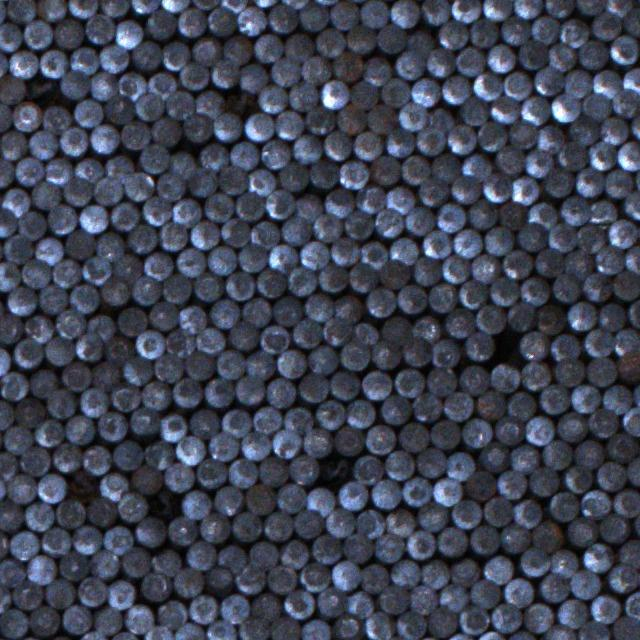tool: (531, 518, 567, 553), (198, 511, 231, 544), (604, 432, 637, 464), (264, 376, 296, 409), (243, 483, 277, 514), (334, 103, 368, 134), (458, 604, 490, 636), (475, 388, 507, 420), (535, 302, 567, 334), (564, 246, 596, 278), (516, 220, 548, 252), (208, 56, 240, 88), (44, 577, 76, 609), (140, 570, 172, 602), (150, 546, 182, 578), (118, 491, 150, 523), (144, 439, 176, 471), (65, 413, 97, 445), (79, 386, 111, 418), (324, 507, 357, 538), (512, 497, 545, 528), (306, 344, 339, 375), (223, 270, 256, 301), (255, 266, 286, 299), (461, 150, 494, 181), (134, 516, 167, 547), (45, 388, 78, 419), (111, 379, 142, 412), (569, 568, 603, 598), (259, 139, 293, 169), (566, 115, 598, 146), (173, 566, 204, 598), (231, 511, 263, 542), (483, 495, 514, 527), (580, 489, 612, 520), (431, 417, 462, 449), (524, 414, 556, 445), (538, 383, 570, 414), (360, 368, 392, 399), (554, 356, 586, 387), (291, 318, 322, 350), (488, 275, 520, 306), (299, 240, 330, 272), (467, 198, 499, 229), (560, 193, 591, 225), (476, 119, 508, 150), (252, 31, 283, 63), (145, 8, 176, 40), (235, 5, 267, 36), (30, 604, 61, 636), (122, 603, 154, 634), (156, 598, 188, 629), (102, 523, 134, 554), (112, 439, 144, 470), (142, 379, 173, 411), (89, 122, 121, 153), (121, 118, 152, 150), (257, 456, 290, 486), (398, 422, 431, 452), (380, 394, 413, 424), (569, 384, 602, 414), (90, 604, 123, 634), (3, 422, 33, 455), (116, 306, 149, 336), (266, 565, 300, 594), (518, 547, 552, 576), (232, 375, 266, 404), (558, 598, 589, 629), (284, 588, 315, 619), (539, 571, 570, 602), (185, 538, 216, 569), (418, 501, 449, 532), (465, 470, 496, 501), (497, 469, 528, 500), (240, 430, 271, 461), (302, 428, 333, 459), (366, 423, 397, 454), (443, 391, 474, 422), (171, 377, 202, 408), (209, 298, 240, 329), (162, 272, 193, 303), (250, 219, 281, 250), (228, 139, 259, 170), (446, 123, 477, 154), (489, 94, 520, 125), (179, 60, 210, 91), (270, 57, 301, 88), (121, 546, 152, 577), (9, 530, 40, 561), (24, 501, 55, 532), (85, 497, 116, 528), (6, 473, 37, 504), (52, 442, 83, 473), (61, 360, 92, 391), (55, 308, 86, 339), (63, 175, 94, 206), (124, 170, 155, 201), (586, 356, 618, 386), (559, 16, 589, 48), (396, 608, 426, 640), (426, 606, 458, 636), (252, 591, 284, 621), (472, 577, 502, 609), (504, 576, 534, 608), (276, 538, 308, 568), (470, 523, 500, 555), (567, 516, 599, 546), (166, 514, 198, 544), (180, 489, 212, 519), (163, 462, 195, 492), (416, 446, 446, 478), (175, 435, 207, 465), (493, 415, 525, 445), (558, 411, 590, 441), (297, 372, 329, 402), (329, 370, 361, 400), (304, 292, 336, 322), (316, 262, 348, 292), (144, 250, 176, 280), (174, 247, 206, 277), (483, 225, 515, 255), (218, 217, 250, 247), (542, 166, 574, 196), (536, 123, 568, 153), (150, 116, 182, 146), (381, 76, 411, 108), (130, 40, 160, 72), (436, 20, 468, 50), (267, 3, 299, 33), (58, 550, 90, 580), (98, 410, 128, 442), (118, 68, 148, 100), (113, 18, 145, 48), (491, 604, 524, 633), (562, 464, 595, 493), (573, 438, 606, 467), (556, 142, 589, 171), (131, 464, 164, 493), (578, 38, 608, 69), (591, 10, 622, 40), (188, 592, 218, 623), (235, 563, 266, 593), (300, 561, 331, 591), (584, 541, 614, 572), (311, 534, 342, 564), (343, 532, 374, 562), (406, 529, 437, 559), (306, 486, 337, 516), (196, 458, 227, 488), (228, 458, 258, 489), (290, 454, 320, 485), (480, 441, 510, 472), (510, 444, 541, 474), (334, 425, 365, 455), (314, 399, 345, 429), (489, 362, 520, 392), (184, 350, 215, 380), (244, 349, 275, 379), (371, 339, 401, 370), (519, 330, 549, 361), (227, 322, 258, 352), (380, 316, 411, 346), (444, 307, 475, 337), (273, 294, 303, 325), (398, 284, 429, 314), (286, 266, 316, 297), (348, 262, 379, 292), (380, 258, 410, 289), (441, 253, 471, 284), (472, 252, 502, 283), (534, 247, 564, 278), (330, 236, 361, 266), (527, 200, 558, 230), (264, 188, 294, 219), (481, 171, 511, 202), (217, 165, 247, 196), (339, 158, 370, 188), (507, 118, 537, 149), (369, 103, 399, 134), (134, 91, 164, 122), (318, 78, 349, 108), (349, 79, 379, 110), (535, 65, 565, 96), (364, 54, 394, 85), (486, 43, 516, 74), (547, 40, 577, 71), (284, 30, 314, 61), (329, 0, 360, 30), (77, 576, 107, 607), (90, 549, 120, 580), (128, 406, 159, 436), (90, 360, 121, 390), (122, 355, 153, 385), (12, 338, 43, 368), (103, 333, 134, 363), (100, 277, 130, 308), (112, 253, 143, 283), (96, 230, 127, 260), (104, 153, 135, 183), (105, 94, 136, 124), (8, 49, 38, 80), (590, 594, 622, 623), (379, 582, 408, 614), (332, 558, 361, 590), (361, 561, 390, 593), (391, 556, 420, 588), (432, 477, 464, 506), (384, 450, 416, 479), (445, 450, 477, 479), (220, 409, 252, 438), (392, 368, 424, 397), (522, 361, 554, 390), (566, 301, 598, 330), (429, 281, 458, 313), (512, 172, 541, 204), (524, 146, 553, 178), (199, 140, 228, 172), (352, 130, 384, 159), (257, 84, 289, 113), (21, 444, 50, 476), (2, 234, 34, 263), (23, 18, 52, 50), (499, 16, 532, 44), (484, 554, 514, 584), (438, 526, 468, 556), (501, 523, 531, 553), (452, 498, 482, 528), (213, 486, 243, 516), (338, 480, 368, 510), (462, 418, 492, 448), (412, 393, 442, 423), (426, 366, 456, 396), (215, 349, 245, 379), (412, 314, 442, 344), (366, 286, 396, 316), (552, 273, 582, 303), (503, 248, 533, 278), (206, 245, 236, 275), (268, 243, 298, 273), (422, 229, 452, 259), (343, 210, 373, 240), (436, 202, 466, 232), (203, 192, 233, 222), (246, 166, 276, 196), (278, 162, 308, 192), (494, 144, 524, 174), (292, 134, 322, 164), (183, 112, 213, 142), (520, 95, 550, 125), (442, 74, 472, 104), (504, 68, 534, 98), (426, 46, 456, 76), (160, 40, 190, 70), (223, 34, 253, 64), (406, 26, 436, 56), (62, 604, 92, 634), (27, 555, 57, 585), (34, 417, 64, 447), (25, 313, 55, 343), (7, 285, 37, 315), (38, 284, 68, 314), (69, 283, 99, 313), (131, 274, 161, 304), (34, 235, 64, 265), (32, 180, 62, 210), (44, 156, 74, 186), (599, 513, 630, 542), (609, 35, 640, 64), (220, 593, 249, 624), (317, 586, 346, 617), (216, 543, 247, 572), (548, 491, 579, 520), (188, 408, 219, 437), (508, 388, 537, 419), (204, 377, 233, 408), (403, 336, 432, 367), (464, 331, 495, 360), (583, 327, 614, 356), (163, 328, 194, 357), (520, 275, 549, 306), (236, 244, 267, 273), (418, 177, 449, 206), (450, 175, 481, 204), (400, 154, 431, 183), (458, 96, 489, 125), (550, 92, 581, 121), (193, 89, 224, 118), (411, 76, 442, 105), (457, 45, 486, 76), (377, 24, 406, 55), (0, 609, 29, 640), (12, 581, 43, 610), (107, 578, 136, 609), (15, 397, 44, 428), (45, 335, 76, 364), (17, 209, 46, 240), (38, 48, 69, 77), (100, 43, 131, 72), (85, 13, 114, 44), (332, 612, 364, 640), (282, 406, 314, 434), (388, 237, 420, 265), (154, 172, 186, 200), (48, 203, 76, 235), (77, 205, 109, 233), (109, 202, 142, 229), (608, 563, 638, 592), (589, 408, 619, 437), (607, 218, 636, 248), (598, 115, 628, 144), (579, 92, 609, 121), (524, 603, 553, 633), (421, 557, 450, 587), (293, 509, 323, 538), (386, 506, 415, 536), (371, 479, 401, 508), (542, 440, 572, 469), (158, 411, 187, 441), (458, 365, 488, 394), (340, 341, 370, 370), (431, 337, 460, 367), (551, 332, 580, 362), (149, 300, 178, 330), (194, 272, 223, 302), (453, 228, 482, 258), (547, 222, 576, 252), (281, 217, 311, 246), (312, 214, 342, 243), (498, 200, 527, 230), (142, 196, 172, 225), (171, 197, 200, 227), (309, 158, 338, 188), (167, 147, 197, 176), (387, 127, 416, 157), (164, 91, 194, 120), (301, 56, 331, 85), (332, 51, 362, 80), (346, 23, 376, 52), (469, 17, 498, 47), (299, 1, 328, 31), (42, 527, 72, 556), (73, 524, 102, 554), (56, 499, 85, 529), (0, 370, 29, 400), (29, 368, 58, 398), (21, 258, 50, 288), (66, 228, 95, 258), (128, 224, 158, 253), (1, 186, 31, 215), (29, 129, 58, 159), (58, 126, 88, 155), (54, 18, 84, 47), (612, 487, 640, 518), (612, 326, 640, 357), (353, 456, 384, 484), (210, 431, 238, 462), (252, 406, 283, 434), (188, 220, 219, 248), (185, 168, 216, 196), (140, 143, 168, 174), (244, 112, 275, 140), (425, 103, 456, 131), (472, 72, 503, 100), (316, 28, 344, 59), (38, 472, 66, 503), (100, 470, 128, 501), (42, 104, 73, 132), (389, 0, 421, 27), (596, 460, 625, 489), (582, 272, 611, 301), (450, 556, 479, 585), (248, 540, 277, 569), (376, 533, 405, 562), (264, 511, 293, 540), (402, 477, 431, 506), (530, 466, 559, 495), (154, 353, 183, 382), (335, 293, 364, 322), (412, 256, 441, 285), (375, 208, 404, 237), (325, 188, 354, 217), (371, 155, 400, 184), (432, 153, 461, 182), (206, 7, 235, 36), (75, 333, 104, 362), (12, 101, 41, 130), (70, 46, 99, 75), (600, 384, 630, 412), (594, 245, 624, 273), (563, 67, 591, 97), (204, 566, 234, 594), (357, 508, 385, 538), (277, 483, 305, 513), (272, 429, 300, 459), (344, 400, 374, 428), (194, 327, 224, 355), (259, 324, 289, 352), (323, 316, 351, 346), (476, 305, 506, 333), (506, 303, 536, 331), (242, 298, 272, 326), (460, 278, 488, 308), (159, 221, 187, 251), (233, 192, 263, 220), (294, 192, 324, 220), (356, 184, 386, 212), (386, 186, 416, 214), (416, 126, 446, 154), (276, 110, 304, 140), (290, 80, 318, 110), (148, 70, 176, 100), (176, 8, 206, 36), (83, 445, 113, 473), (86, 312, 116, 340), (82, 256, 112, 284), (74, 156, 104, 184), (0, 130, 28, 160), (74, 97, 104, 125), (61, 69, 89, 99), (89, 71, 119, 99), (439, 583, 470, 610), (404, 207, 435, 234), (395, 51, 426, 78), (612, 269, 640, 298), (576, 224, 605, 252), (603, 168, 632, 196), (588, 140, 616, 169), (593, 69, 621, 98), (366, 611, 394, 640), (178, 304, 206, 333), (399, 101, 427, 130), (518, 39, 546, 68), (531, 15, 559, 44), (361, 0, 390, 28), (136, 329, 165, 357), (52, 259, 81, 287), (94, 176, 123, 204), (575, 167, 602, 197), (410, 585, 437, 615), (324, 130, 351, 160), (240, 62, 267, 92), (15, 157, 45, 184), (598, 302, 626, 330), (550, 548, 578, 576), (276, 349, 304, 377), (360, 239, 388, 267), (591, 197, 618, 226), (214, 111, 241, 140), (305, 106, 334, 133), (192, 37, 221, 64), (610, 90, 640, 116), (0, 556, 26, 586), (0, 74, 26, 104), (238, 616, 270, 640), (270, 616, 302, 640), (347, 589, 374, 617), (615, 140, 640, 170), (616, 351, 640, 382), (0, 312, 24, 343), (352, 320, 379, 347), (205, 618, 238, 640), (610, 616, 640, 640), (451, 0, 482, 23), (0, 501, 23, 532), (421, 0, 450, 24), (6, 0, 36, 23), (302, 618, 332, 640), (578, 620, 610, 640), (0, 22, 22, 51), (0, 262, 21, 292), (544, 0, 578, 18), (619, 538, 640, 567), (482, 0, 513, 19), (38, 0, 66, 21), (543, 623, 576, 640), (0, 206, 18, 237), (622, 188, 640, 218), (174, 622, 204, 640), (514, 0, 544, 18), (0, 451, 19, 479), (68, 0, 99, 17), (622, 406, 640, 435), (621, 67, 640, 94), (623, 244, 640, 274), (100, 0, 130, 17), (623, 7, 640, 36), (625, 590, 640, 622), (0, 398, 15, 429), (144, 625, 174, 640), (604, 0, 632, 16), (0, 157, 15, 186), (626, 457, 640, 486), (627, 298, 640, 328), (0, 582, 12, 614), (0, 100, 12, 132), (577, 0, 604, 14), (132, 0, 160, 13), (160, 0, 190, 12), (220, 0, 248, 12)
tool_b: (15, 67, 70, 112), (217, 79, 267, 123), (318, 454, 353, 486), (146, 488, 177, 522), (64, 472, 98, 503)
void: (492, 328, 524, 364)
